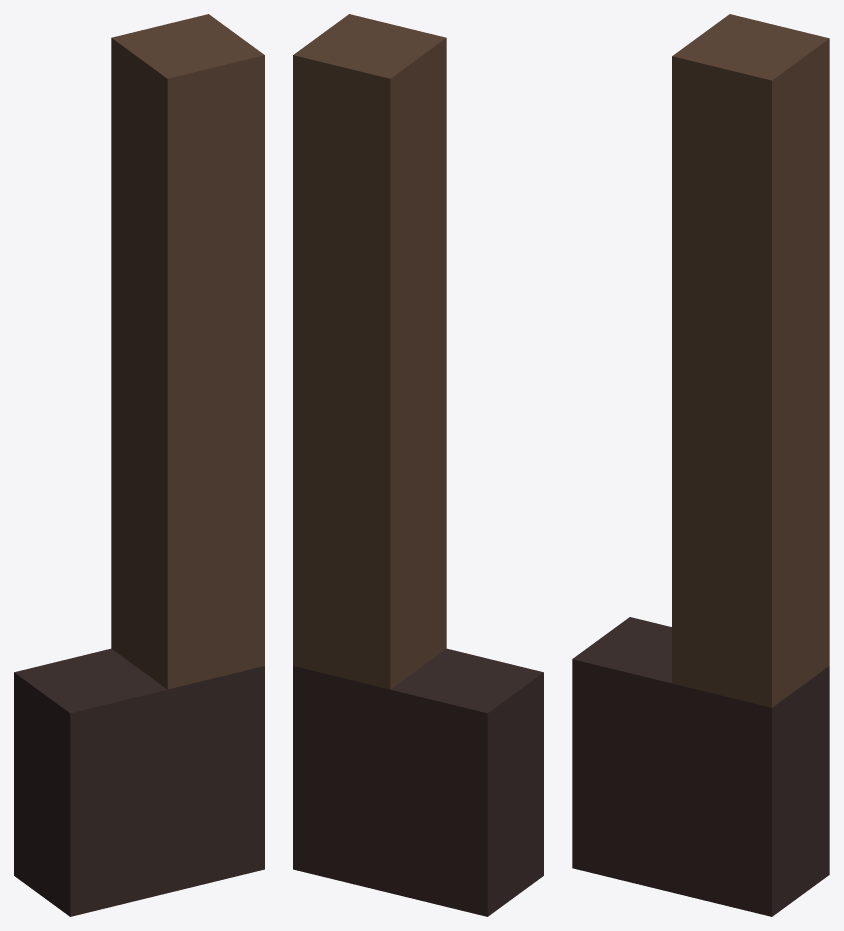
Rendered from boar__tail.glb.
3 views of the same model, side by side, from view 1: azimuth 30°, elevation 25°; view 2: azimuth 150°, elevation 25°; view 3: azimuth 330°, elevation 25° (orthographic). The views are drawn at different scales.
Parts seen in each view (by area): view 1: boar__tail; view 2: boar__tail; view 3: boar__tail.
Boxes of the visible parts, x1=… form: boar__tail: x1=14, y1=14, x2=264, y2=916; boar__tail: x1=293, y1=14, x2=543, y2=916; boar__tail: x1=572, y1=14, x2=829, y2=916.
Size of the model in its own units: 0.2 by 0.8 by 0.1.
1 material, 1 textured.
